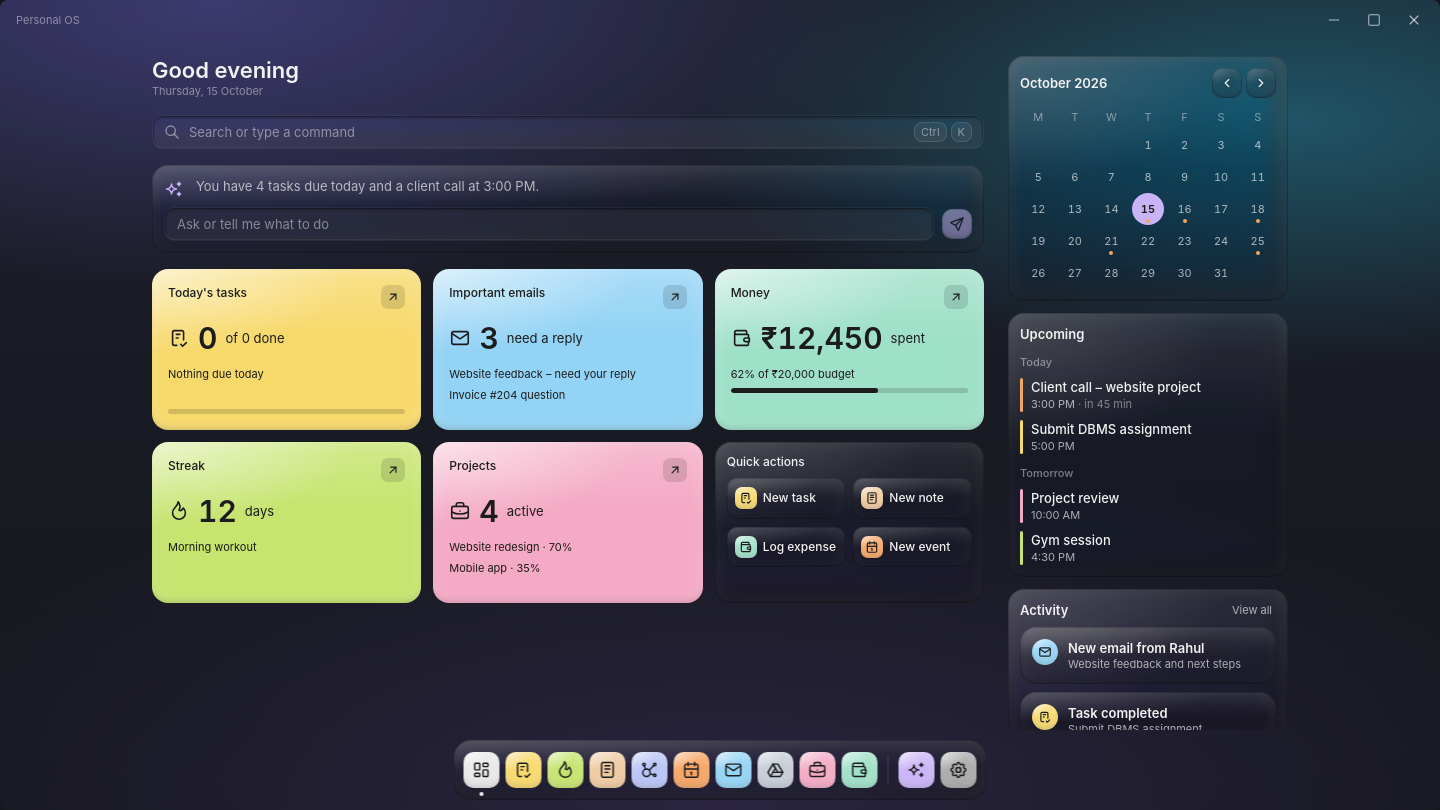
Dashboard tile buttons open the module › Today's tasks → Tasks
The width and height of the screenshot is (1440, 810).
Click the button named "Open Tasks" at (393, 297), box [381, 285, 405, 309]
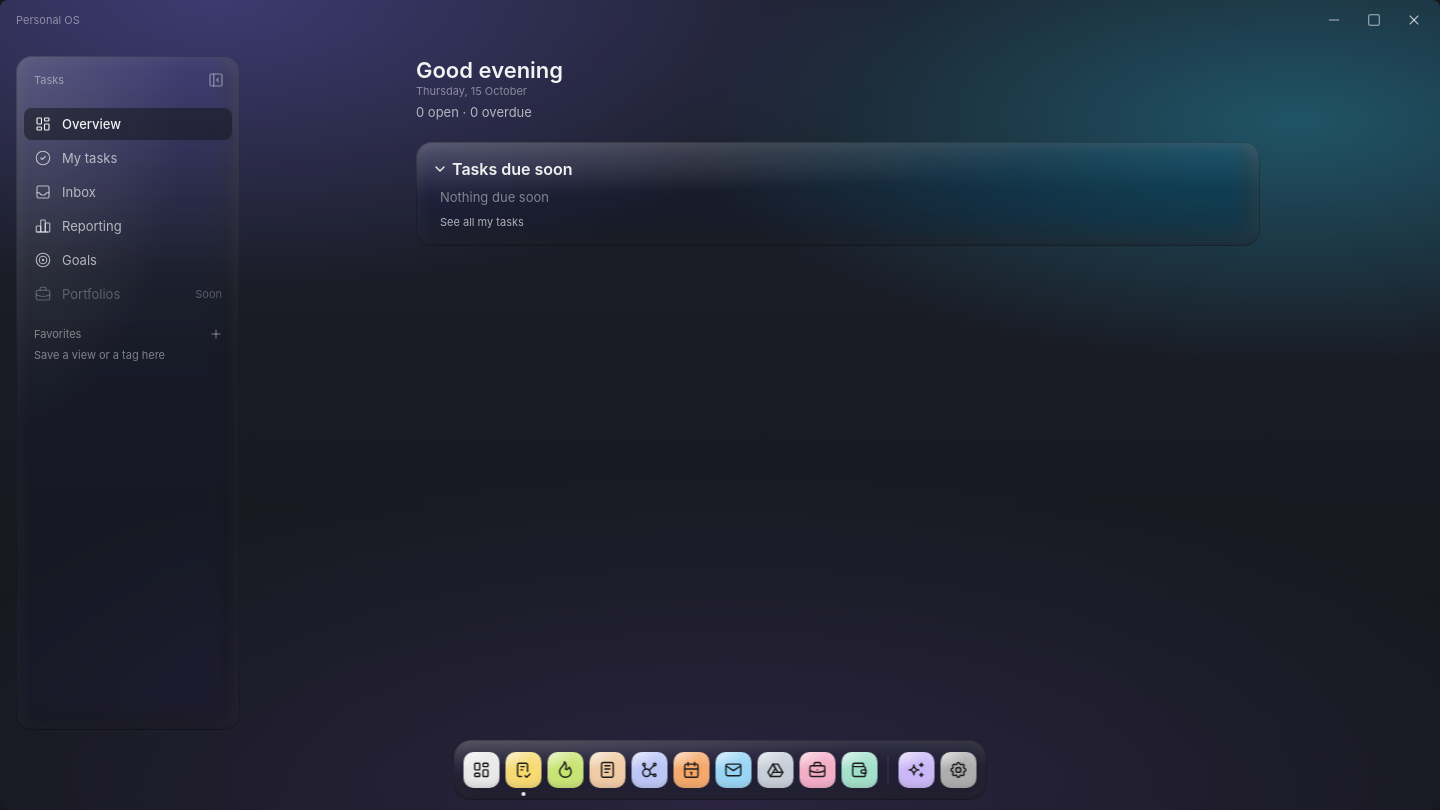
Now the text "Tasks" is shown, box [34, 72, 64, 88]
